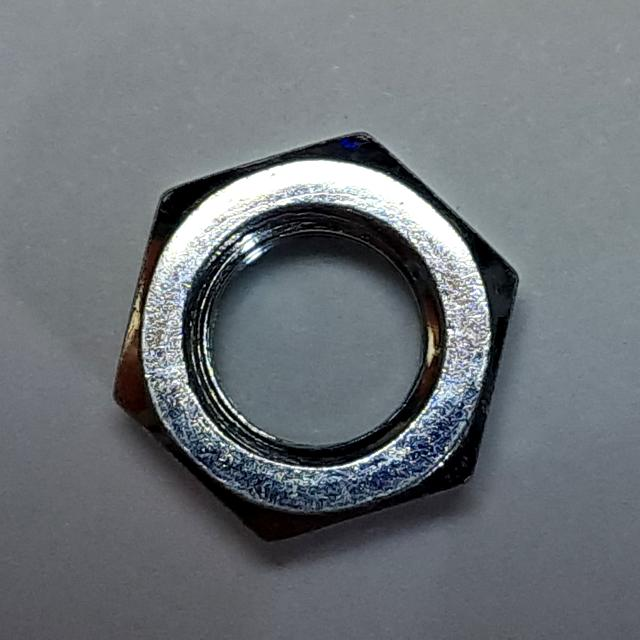Excellent: (87, 117, 547, 564)
